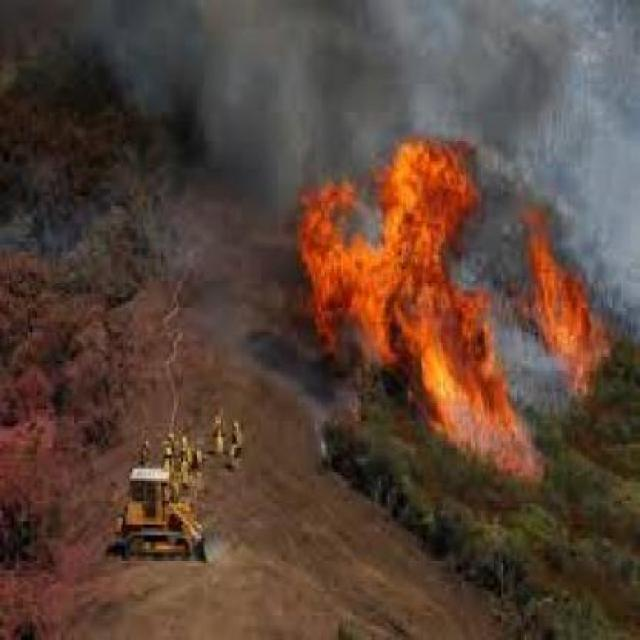Fire: (277, 106, 628, 492)
